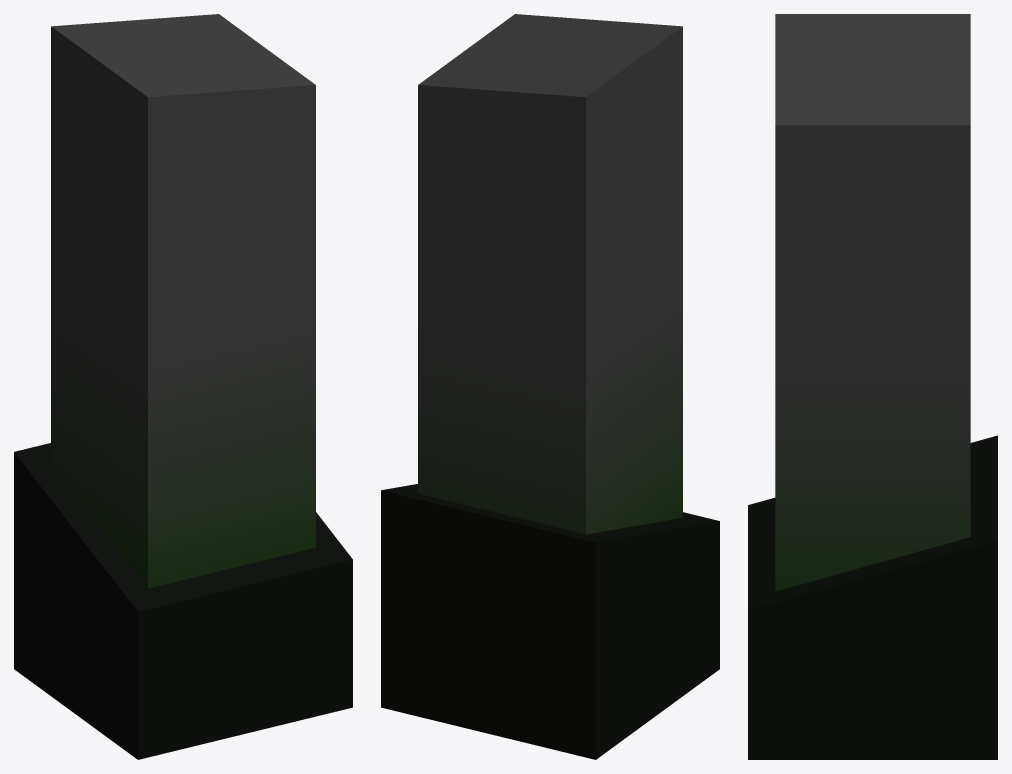
The model's file is lib-laby-block-pillar-a.fbx.
The picture shows the model from 3 angles, left to right: view 1: azimuth 30°, elevation 25°; view 2: azimuth 150°, elevation 25°; view 3: azimuth 270°, elevation 25°; orthographic projection.
Parts seen in each view (by area): view 1: lib_laby_block_pillar_a:pCube4; view 2: lib_laby_block_pillar_a:pCube4; view 3: lib_laby_block_pillar_a:pCube4.
Boxes of the visible parts, left/top/right/bottom form: lib_laby_block_pillar_a:pCube4: left=14, top=14, right=352, bottom=759; lib_laby_block_pillar_a:pCube4: left=381, top=14, right=719, bottom=759; lib_laby_block_pillar_a:pCube4: left=748, top=14, right=997, bottom=759.
Size of the model in its own units: 3.84 by 11.05 by 3.84.
